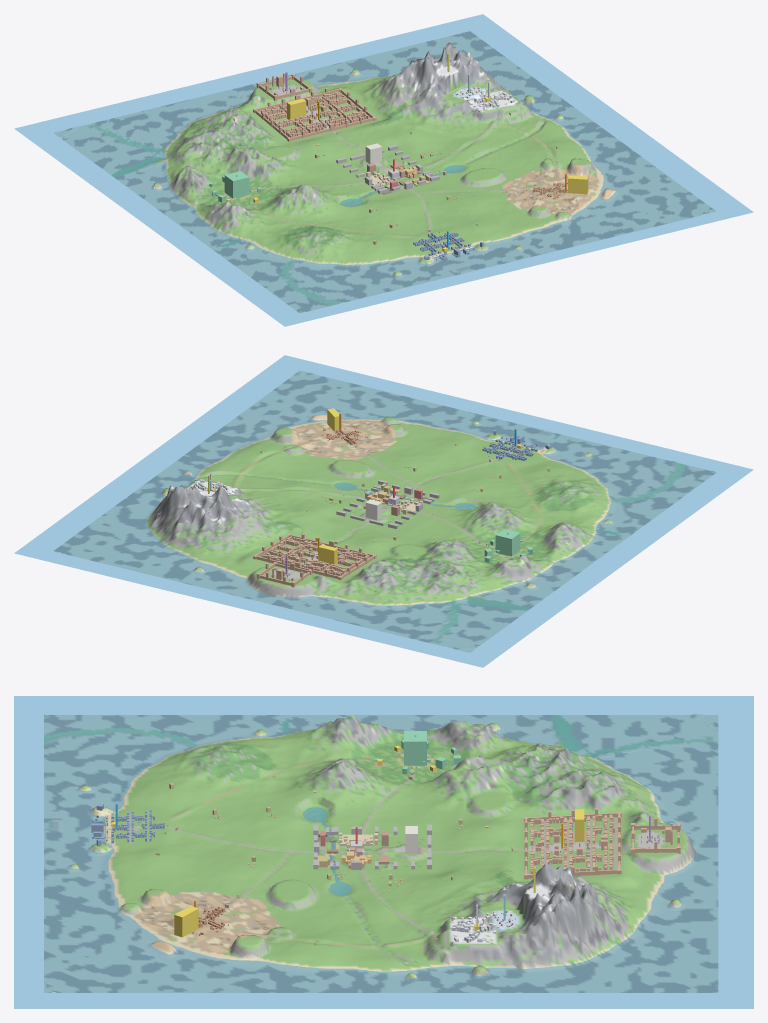
Rendered from phase1_map.glb.
3 renders of one model, top to bottom at view 1: azimuth 30°, elevation 25°; view 2: azimuth 150°, elevation 25°; view 3: azimuth 270°, elevation 25°, orthographic. The views are drawn at different scales.
Parts seen in each view (by area): view 1: Phase1Map; view 2: Phase1Map; view 3: Phase1Map.
Boxes of the visible parts, box(x1,y1,x2,y2) form: Phase1Map: box(14, 14, 753, 326); Phase1Map: box(14, 355, 753, 667); Phase1Map: box(14, 696, 753, 1008).
Size of the model in its own units: 54 by 5.33 by 54.
